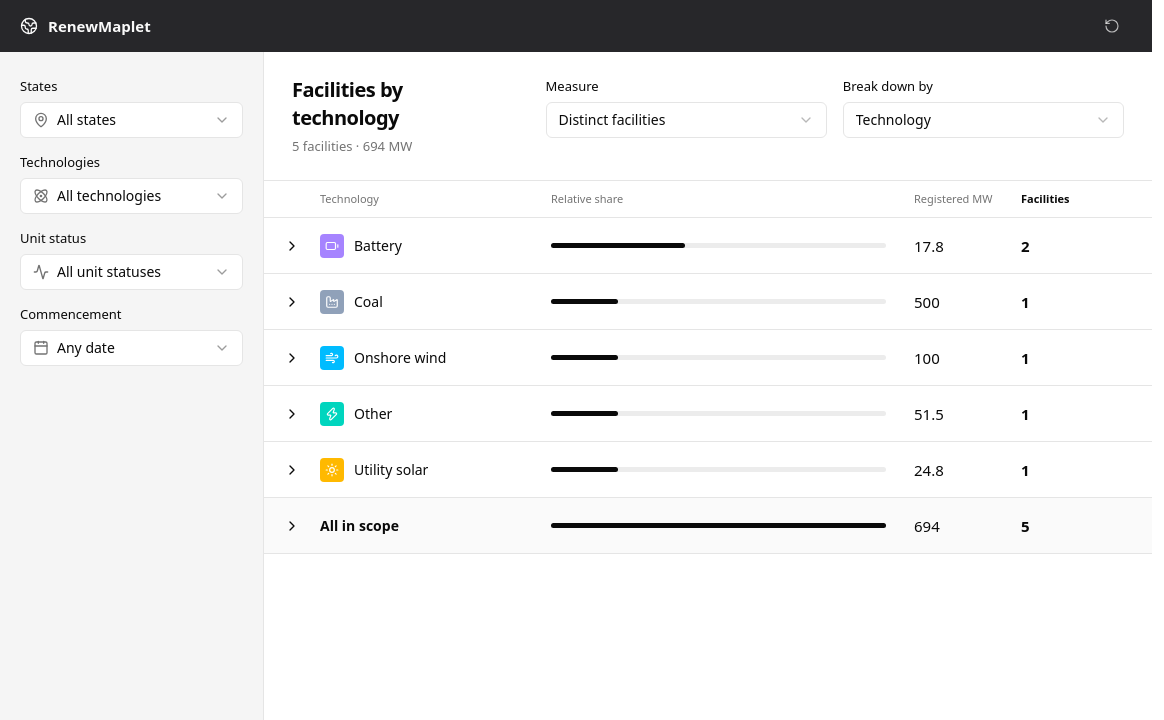
opening a group hides the others and lists its facilities as plain rows
This screenshot has width=1164, height=720.
Click the row "Battery 17.8 2".
click(708, 246)  # box [264,218,1152,274]
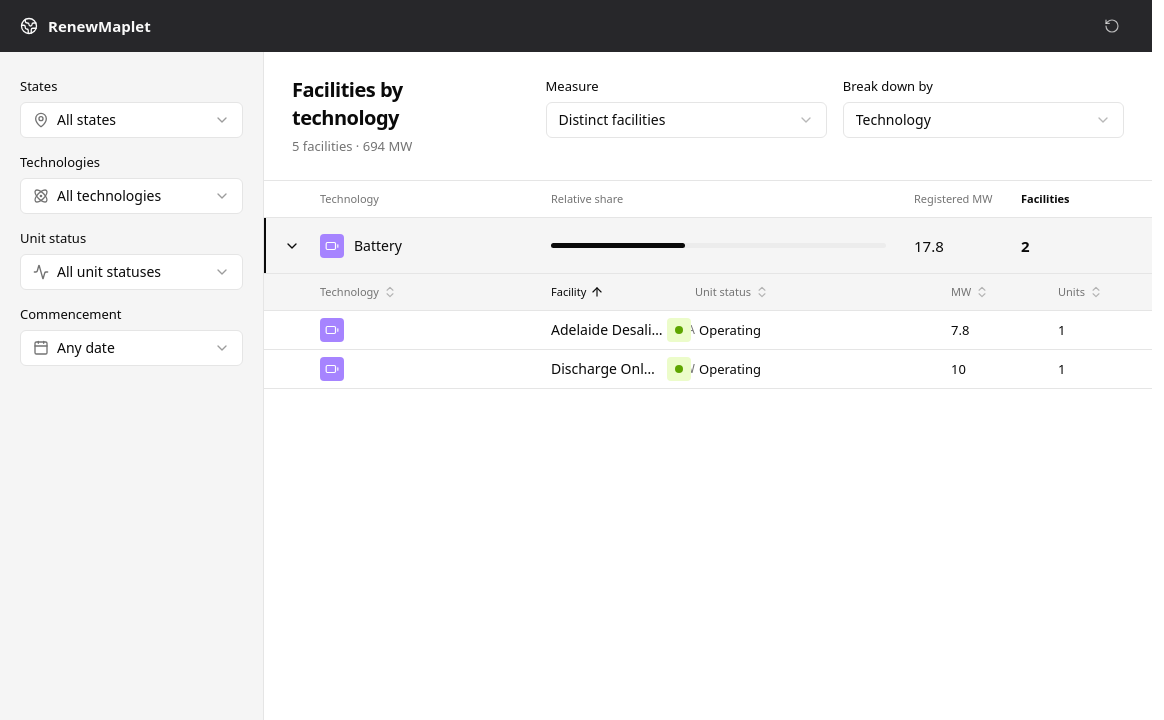
expect the number of rows named "facilities" is 1: met, box [264,218,1152,274]
expect the row named "facilities" is expanded: met, box [264,218,1152,274]
expect the row "Adelaide Desalination SA Operating 7.8 1" is shown: met, box [264,311,1152,350]
